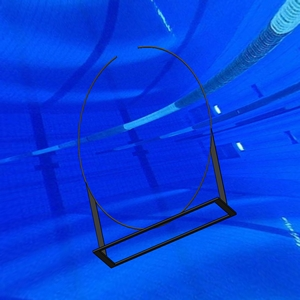circle: (76, 45, 238, 269)
